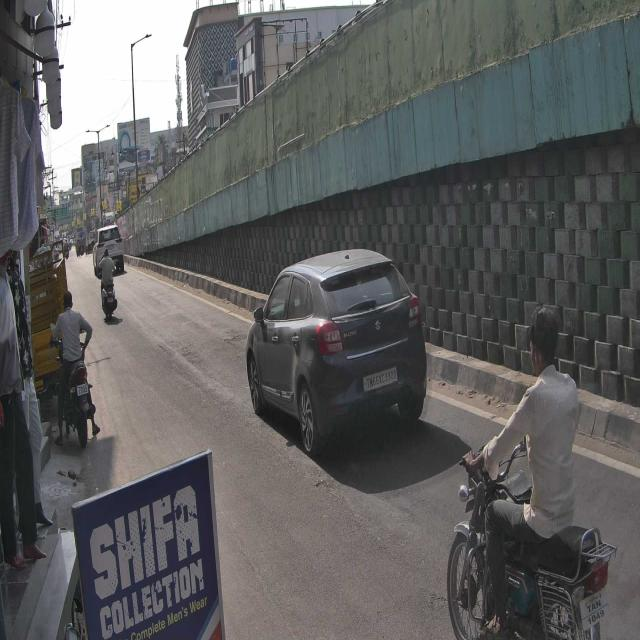single_rider: (445, 303, 615, 640)
